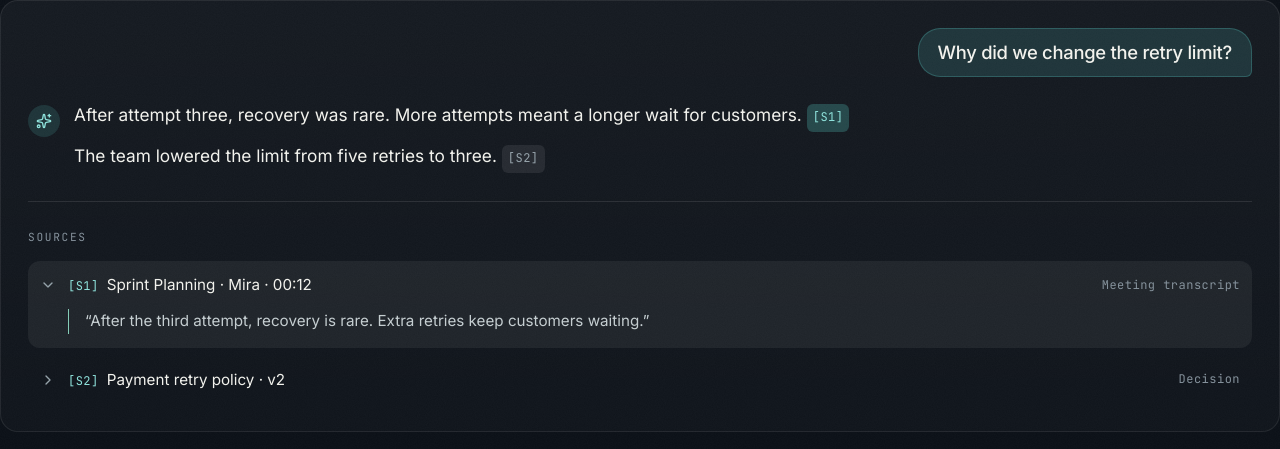
Test: answer sources › opens the source a sentence points at and closes the other
Click the button "[S2]". click: (523, 159)
box: [502,145,545,173]
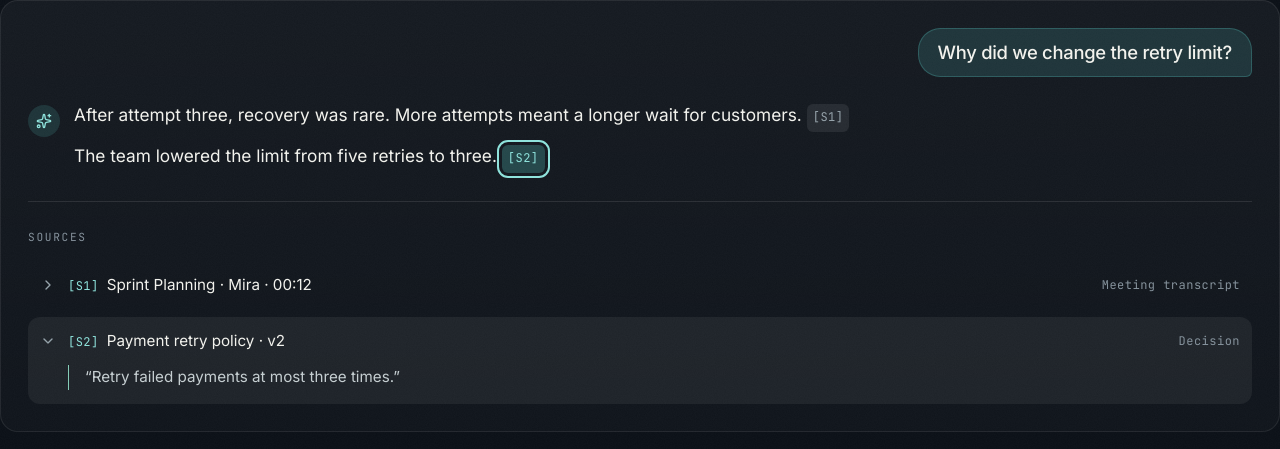
expect the button "[S1]Sprint Planning · Mira · 00:12 Meeting transcript" is collapsed: met, box [28,261,1252,309]
expect the button "[S2]Payment retry policy · v2 Decision" is expanded: met, box [28,317,1252,365]
expect the element named "Decision: Payment retry policy · v2" shows "Retry failed payments at most three times.": met, box [92,367,393,386]
